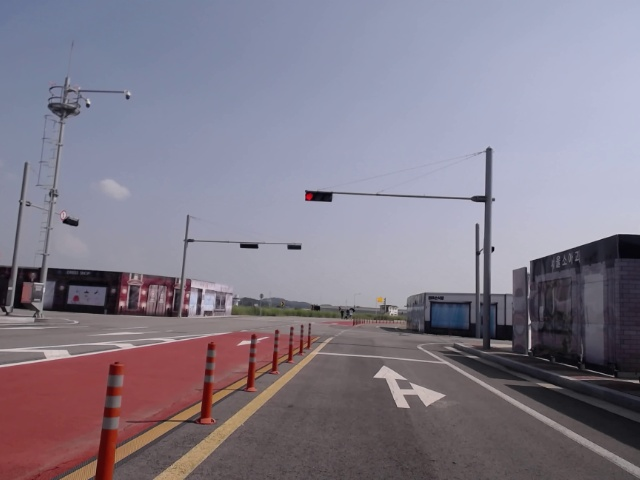red_3: (305, 192, 332, 201)
